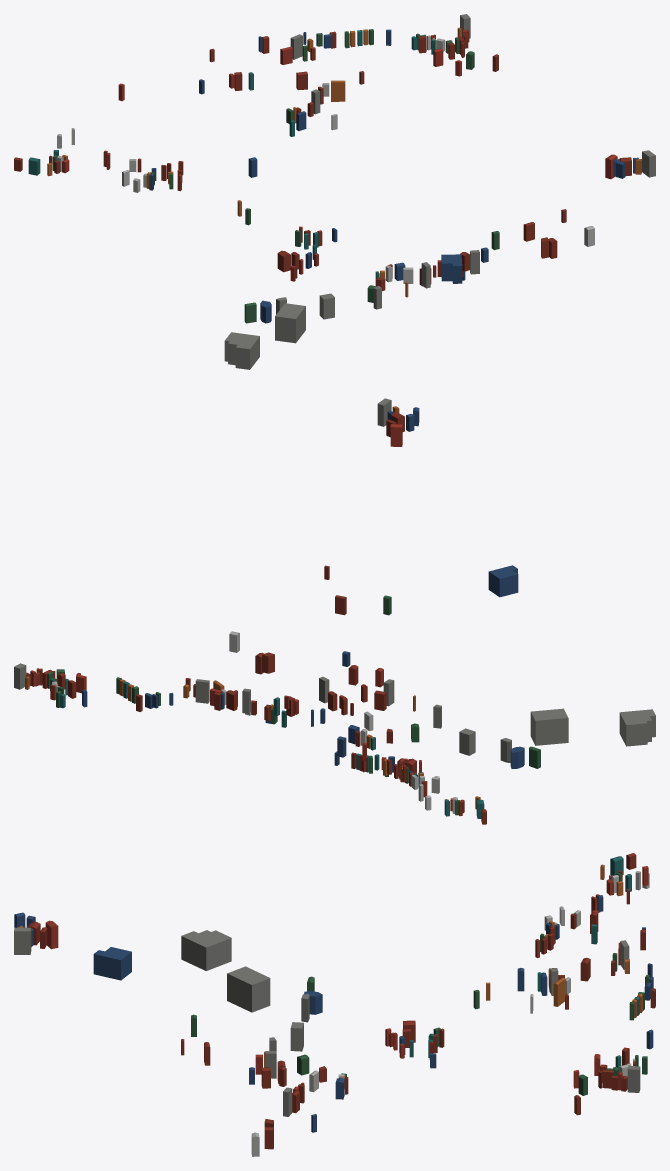
File: near-16-54734-29741.d06c3b60.glb
The picture shows the model from 3 angles, top to bottom: view 1: azimuth 30°, elevation 25°; view 2: azimuth 150°, elevation 25°; view 3: azimuth 270°, elevation 25°; orthographic projection. The views are drawn at different scales.
Bounding box in the file's own units: 556 × 238 × 589.
